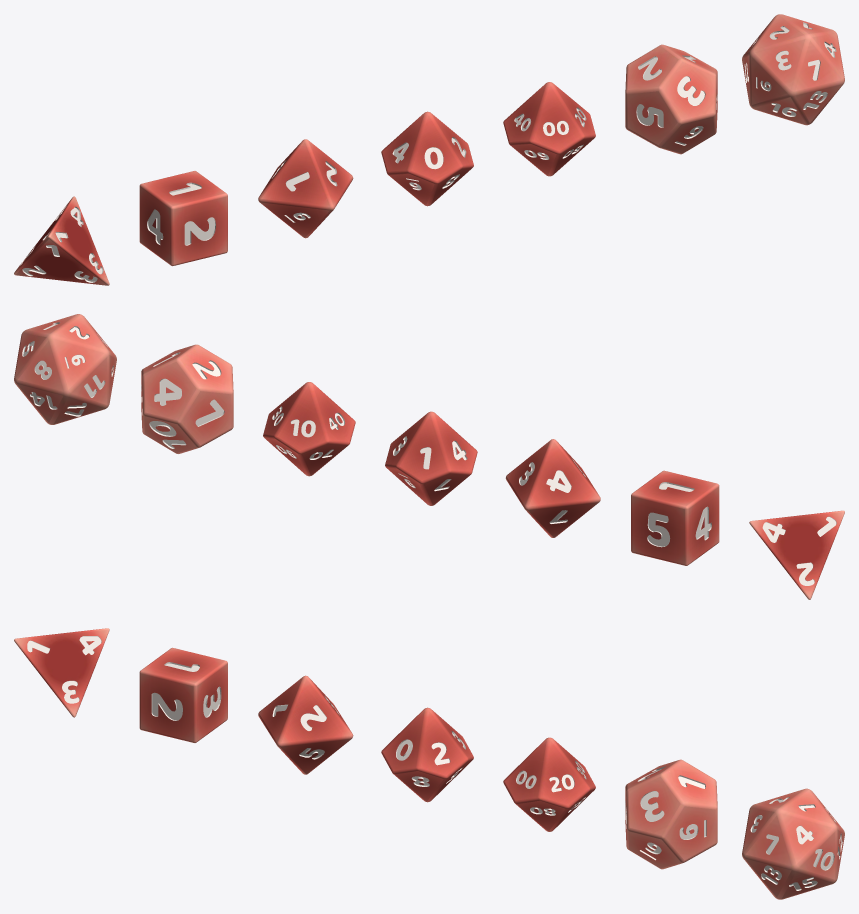
File: coral.glb
The picture shows the model from 3 angles, top to bottom: view 1: azimuth 30°, elevation 25°; view 2: azimuth 150°, elevation 25°; view 3: azimuth 330°, elevation 25°; orthographic projection.
Visible parts, largest first — view 1: d20, d12, d6, d100, d10, d8, d4; view 2: d20, d12, d6, d100, d10, d8, d4; view 3: d20, d12, d6, d8, d10, d100, d4.
Boxes of the visible parts, x1=… form: d20: x1=742, y1=14, x2=844, y2=125; d12: x1=625, y1=44, x2=717, y2=154; d6: x1=139, y1=171, x2=227, y2=266; d100: x1=503, y1=82, x2=595, y2=176; d10: x1=381, y1=111, x2=473, y2=206; d8: x1=258, y1=139, x2=353, y2=238; d4: x1=14, y1=196, x2=109, y2=285; d20: x1=14, y1=314, x2=116, y2=424; d12: x1=141, y1=344, x2=233, y2=453; d6: x1=631, y1=470, x2=719, y2=565; d100: x1=263, y1=382, x2=355, y2=476; d10: x1=385, y1=411, x2=477, y2=505; d8: x1=505, y1=439, x2=600, y2=537; d4: x1=749, y1=510, x2=844, y2=599; d20: x1=742, y1=788, x2=844, y2=899; d12: x1=625, y1=759, x2=717, y2=869; d6: x1=139, y1=647, x2=227, y2=742; d8: x1=258, y1=675, x2=353, y2=774; d10: x1=381, y1=707, x2=473, y2=802; d100: x1=503, y1=737, x2=595, y2=831; d4: x1=14, y1=628, x2=109, y2=717.
Bounding box in the file's own units: 21.14 × 2.47 × 2.47.
Materials: 14 (7 with a texture image).
